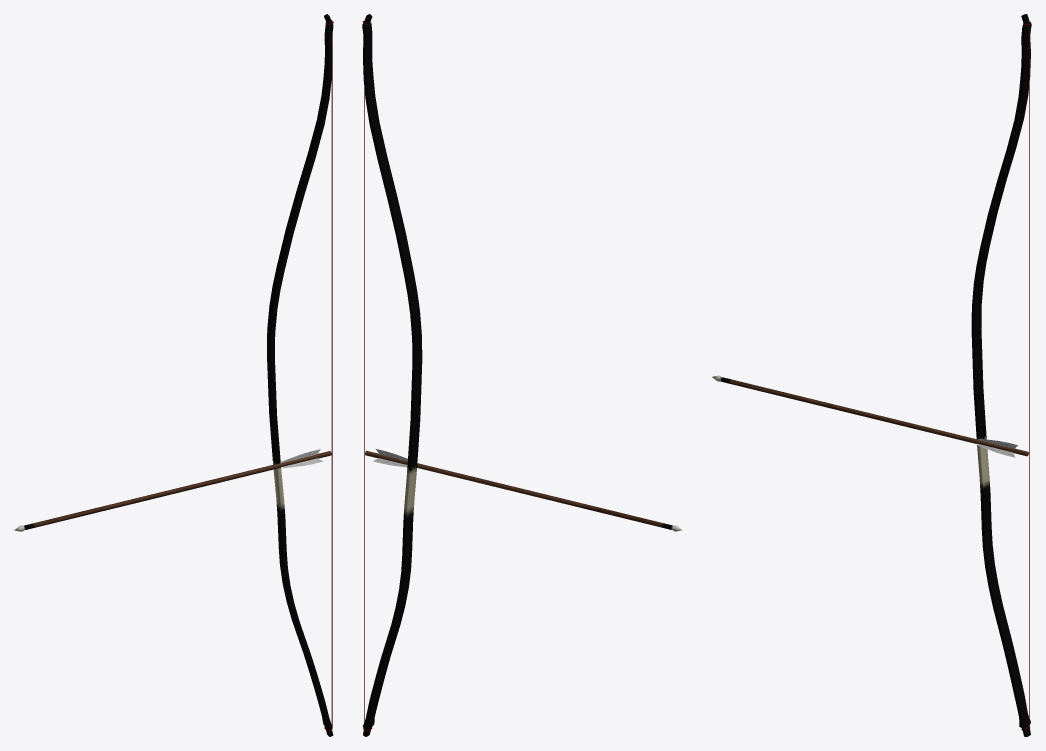
The model's file is Japanese_Bow.fbx.
3 views of the same model, side by side, from view 1: azimuth 30°, elevation 25°; view 2: azimuth 150°, elevation 25°; view 3: azimuth 330°, elevation 25° (orthographic).
Visible parts, largest first — view 1: Japanese_Bow, Arrow; view 2: Japanese_Bow, Arrow; view 3: Japanese_Bow, Arrow.
Boxes of the visible parts, x1,y1,x2,y2 form: Japanese_Bow: [267, 14, 333, 736]; Arrow: [14, 449, 331, 531]; Japanese_Bow: [362, 14, 422, 736]; Arrow: [365, 449, 682, 531]; Japanese_Bow: [971, 14, 1031, 736]; Arrow: [712, 375, 1028, 457].
Bounding box in the file's own units: 103 × 223 × 5.95.
Materials: 1 (1 with a texture image).
